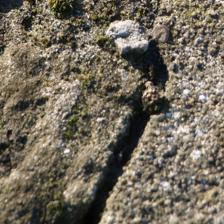Crack: (31, 47, 133, 176)
